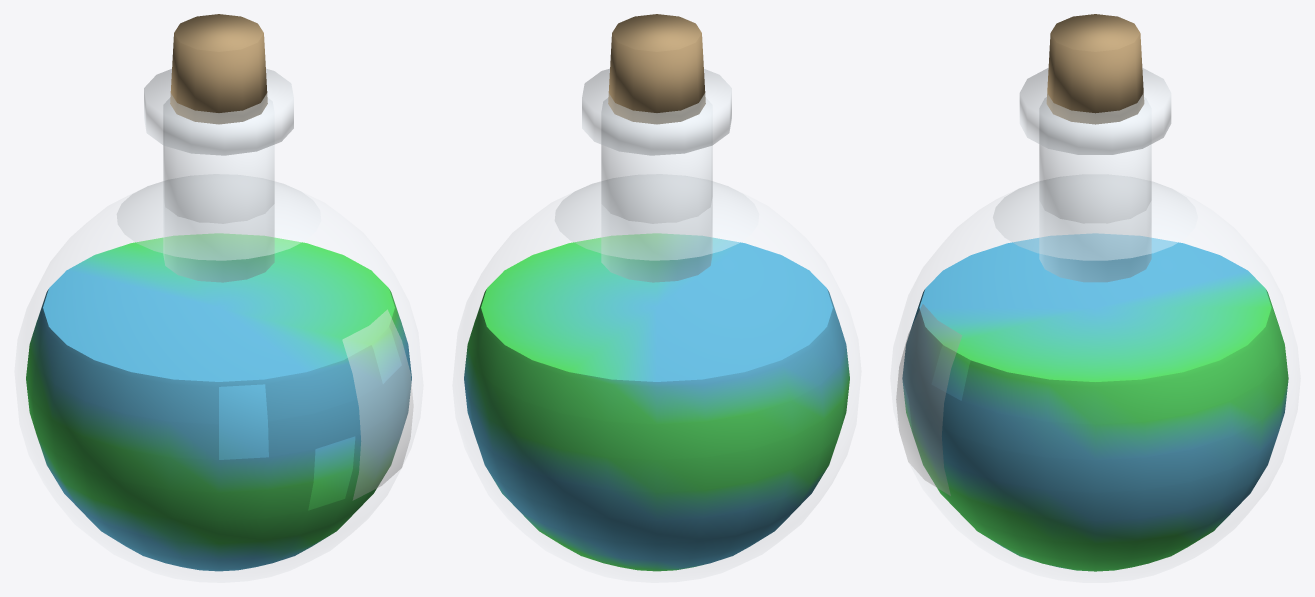
The model's file is Loch_Potion.glb.
The picture shows the model from 3 angles, left to right: view 1: azimuth 30°, elevation 25°; view 2: azimuth 150°, elevation 25°; view 3: azimuth 270°, elevation 25°; orthographic projection.
Visible parts, largest first — view 1: PotionLiquidO, PotionGlassO, PotionCork; view 2: PotionLiquidO, PotionGlassO, PotionCork; view 3: PotionLiquidO, PotionGlassO, PotionCork.
Part boxes in pixels (box(x1,y1,x2,y2)): PotionLiquidO: box(26, 233, 411, 571); PotionGlassO: box(116, 68, 413, 500); PotionCork: box(170, 14, 267, 124); PotionLiquidO: box(464, 233, 849, 571); PotionGlassO: box(554, 68, 759, 282); PotionCork: box(608, 14, 705, 124); PotionLiquidO: box(902, 233, 1288, 571); PotionGlassO: box(896, 68, 1197, 496); PotionCork: box(1046, 14, 1144, 124).
Size of the model in its own units: 0.8339 by 1.2 by 0.84.
